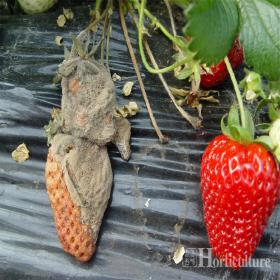Gray Mold: (43, 109, 113, 262), (58, 54, 120, 148), (110, 112, 134, 162)
